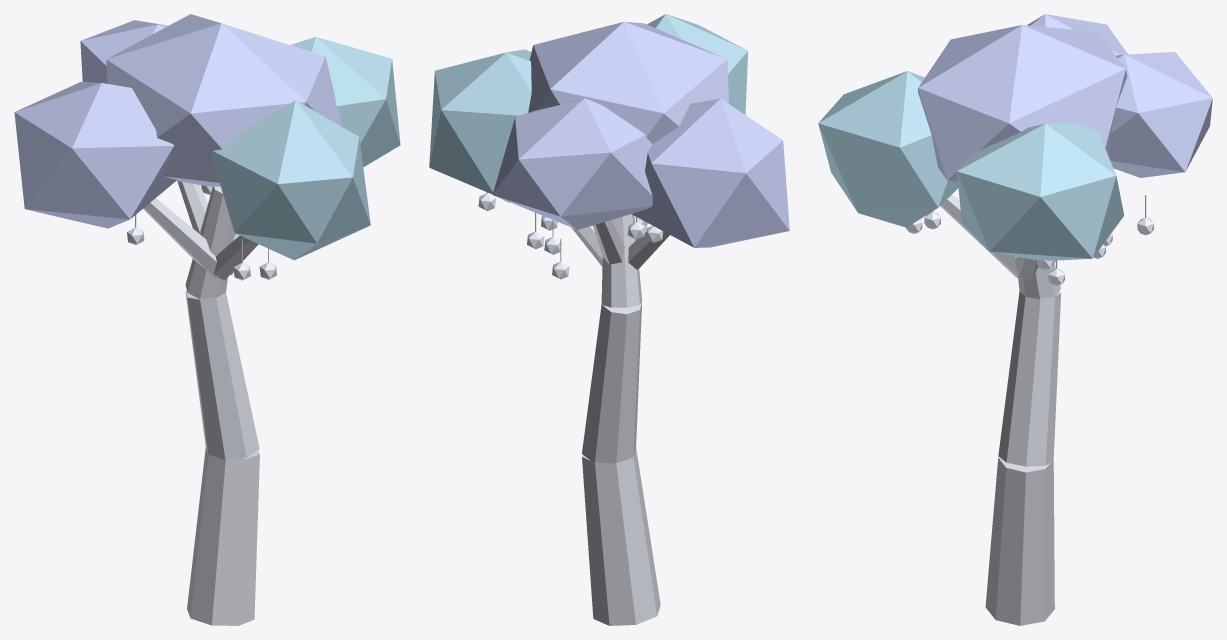
File: Tree_Moonwood.fbx
3 renders of one model, left to right at view 1: azimuth 30°, elevation 25°; view 2: azimuth 150°, elevation 25°; view 3: azimuth 270°, elevation 25°, orthographic.
Visible parts, largest first — view 1: Tree_Moonwood_Mesh; view 2: Tree_Moonwood_Mesh; view 3: Tree_Moonwood_Mesh.
Part boxes in pixels (x1,y1,x2,y2): Tree_Moonwood_Mesh: [14, 14, 400, 625]; Tree_Moonwood_Mesh: [429, 14, 789, 625]; Tree_Moonwood_Mesh: [818, 14, 1212, 625].
Bounding box in the file's own units: 7.14 × 11.21 × 6.83.
